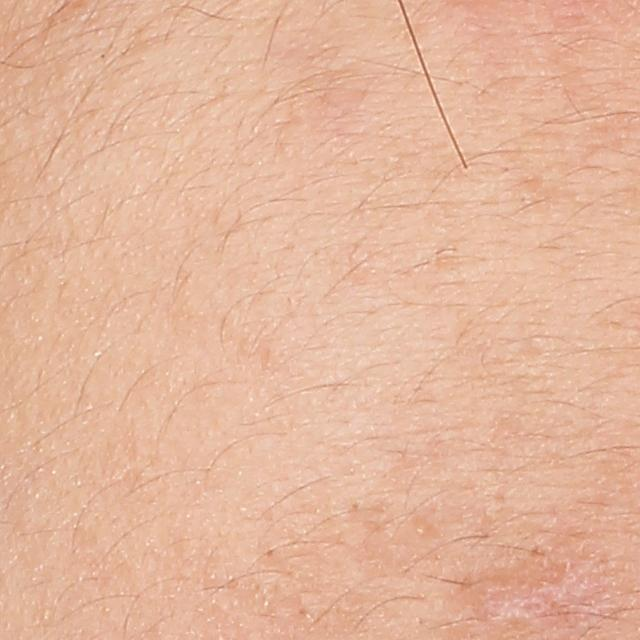comedo: (410, 520, 430, 539)
